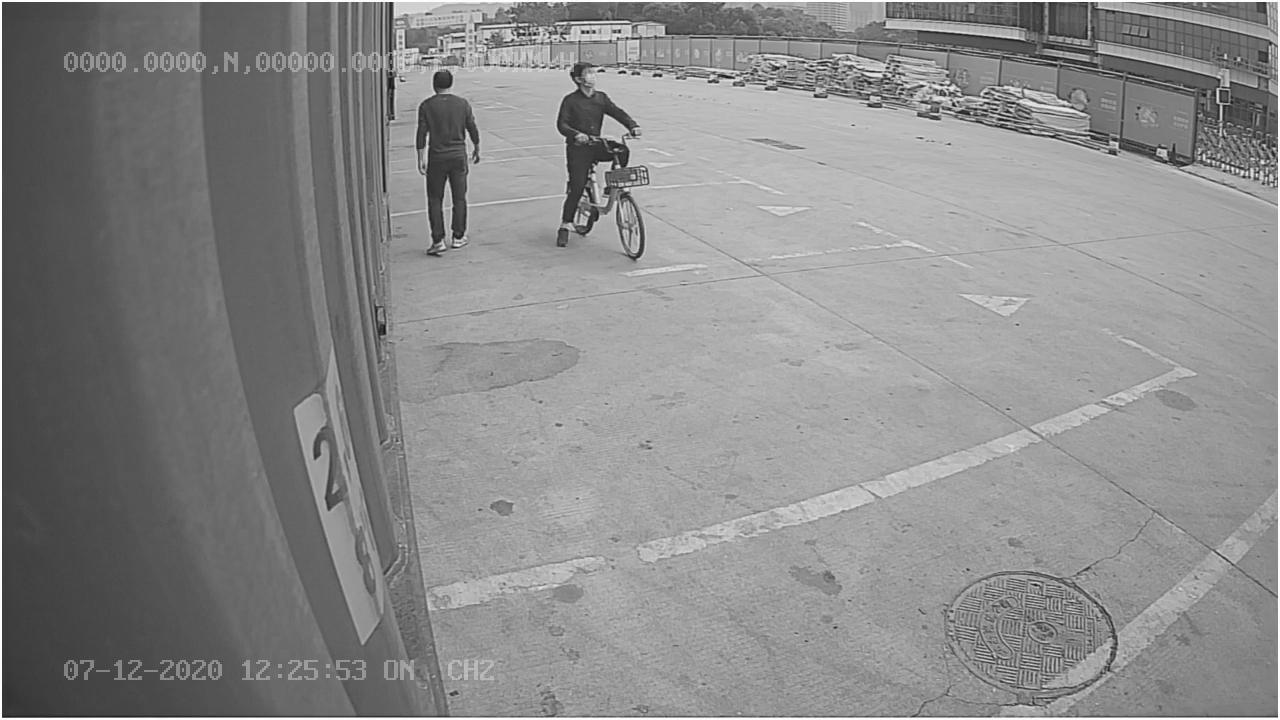person: (411, 65, 483, 262)
